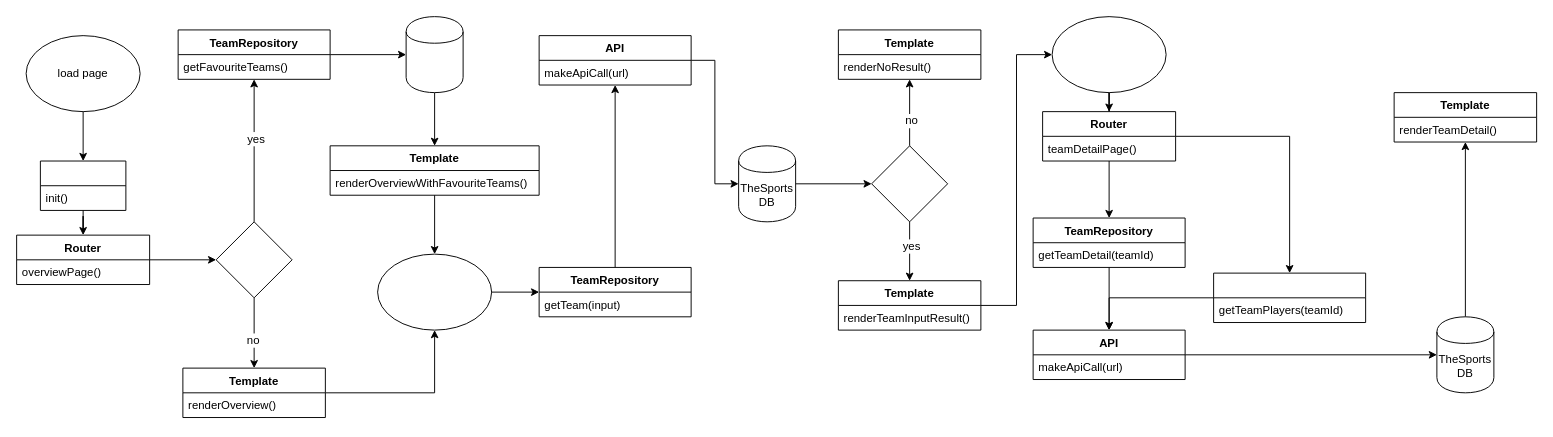
The diagram is 1553 pixels wide and 437 high, and some of its shapes have lost their labels. The shapes that lost their labels are listed below. From the top down, each one's box as (x1, y1, x2, y2) in pixels, then its label:
(405, 16, 463, 93): Local Storage
(1051, 16, 1166, 93): On team Click
(39, 160, 126, 210): App
(871, 145, 948, 222): team exists
(215, 221, 292, 298): has favourite teams
(377, 253, 492, 330): On team input
(1213, 272, 1366, 323): PlayerRepository
